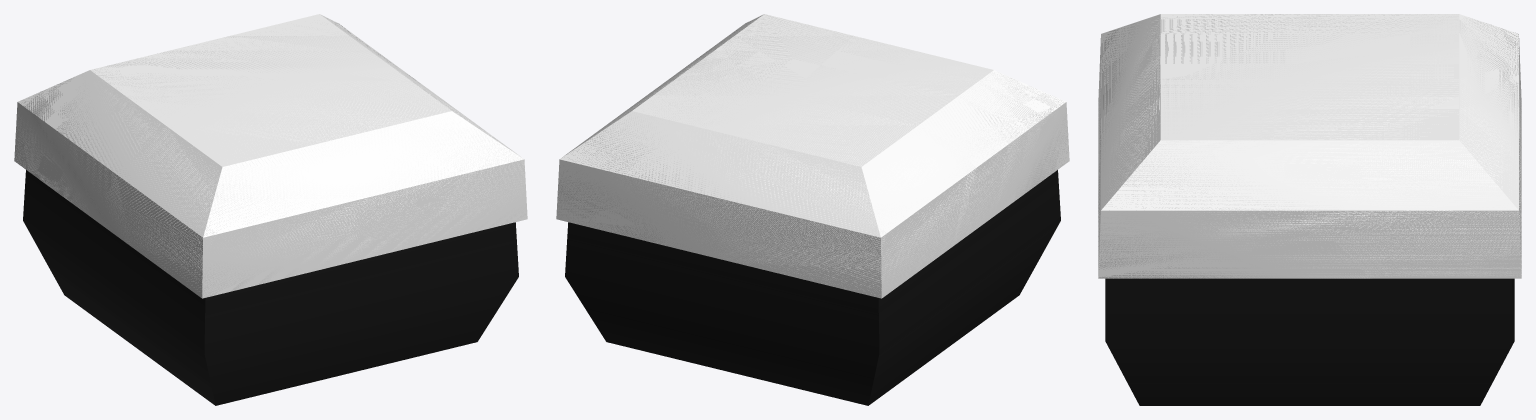
File: Plastic_Box_A.FBX
3 views of the same model, side by side, from view 1: azimuth 30°, elevation 25°; view 2: azimuth 150°, elevation 25°; view 3: azimuth 270°, elevation 25° (orthographic). The views are drawn at different scales.
Parts seen in each view (by area): view 1: Plastic_Lid, Plastic_Box_A; view 2: Plastic_Lid, Plastic_Box_A; view 3: Plastic_Lid, Plastic_Box_A.
Part boxes in pixels (x1,y1,x2,y2): Plastic_Lid: [14, 14, 527, 298]; Plastic_Box_A: [23, 170, 518, 405]; Plastic_Lid: [556, 14, 1069, 298]; Plastic_Box_A: [565, 170, 1060, 405]; Plastic_Lid: [1098, 14, 1521, 278]; Plastic_Box_A: [1105, 278, 1514, 405].
Size of the model in its own units: 42.32 by 28.35 by 42.32.
